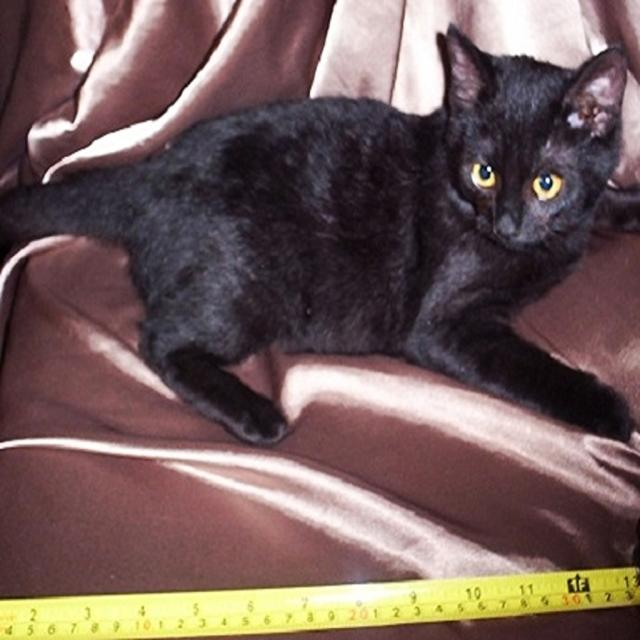Cat: (0, 21, 629, 446)
